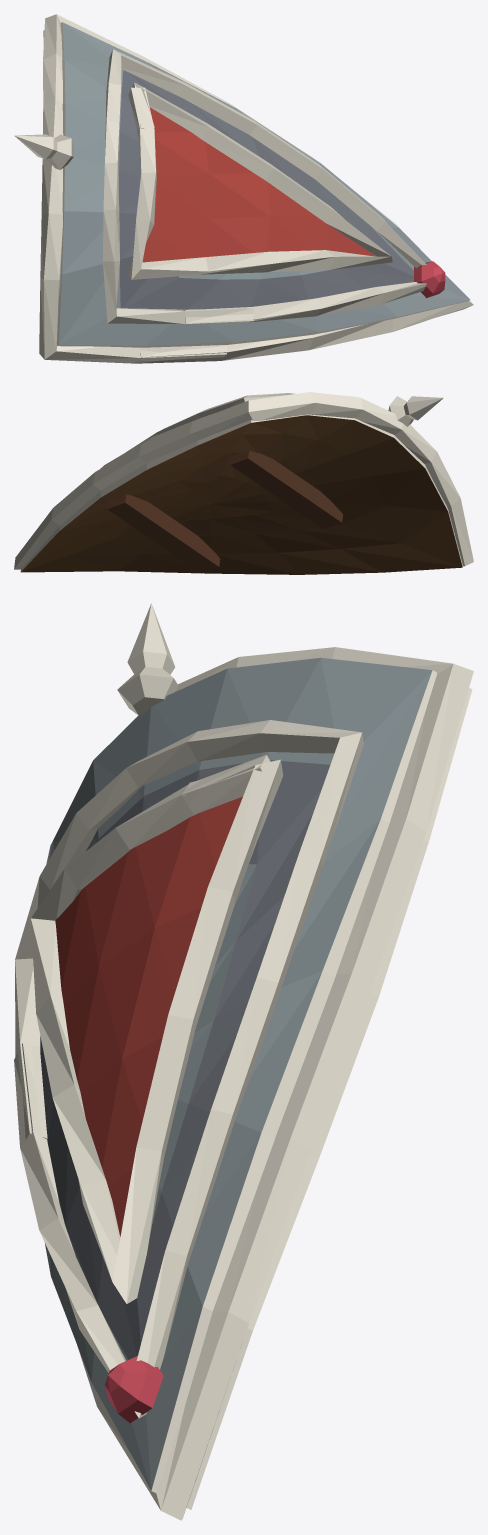
Rendered from armor_shield_prow.glb.
The picture shows the model from 3 angles, top to bottom: view 1: azimuth 30°, elevation 25°; view 2: azimuth 150°, elevation 25°; view 3: azimuth 270°, elevation 25°; orthographic projection. The views are drawn at different scales.
Visible parts, largest first — view 1: armor_shield_prow; view 2: armor_shield_prow; view 3: armor_shield_prow.
Boxes of the visible parts, x1,y1,x2,y2 form: armor_shield_prow: (14, 14, 473, 363); armor_shield_prow: (14, 392, 473, 574); armor_shield_prow: (14, 603, 473, 1520).
Bounding box in the file's own units: 0.8218 × 0.5423 × 0.3968.
